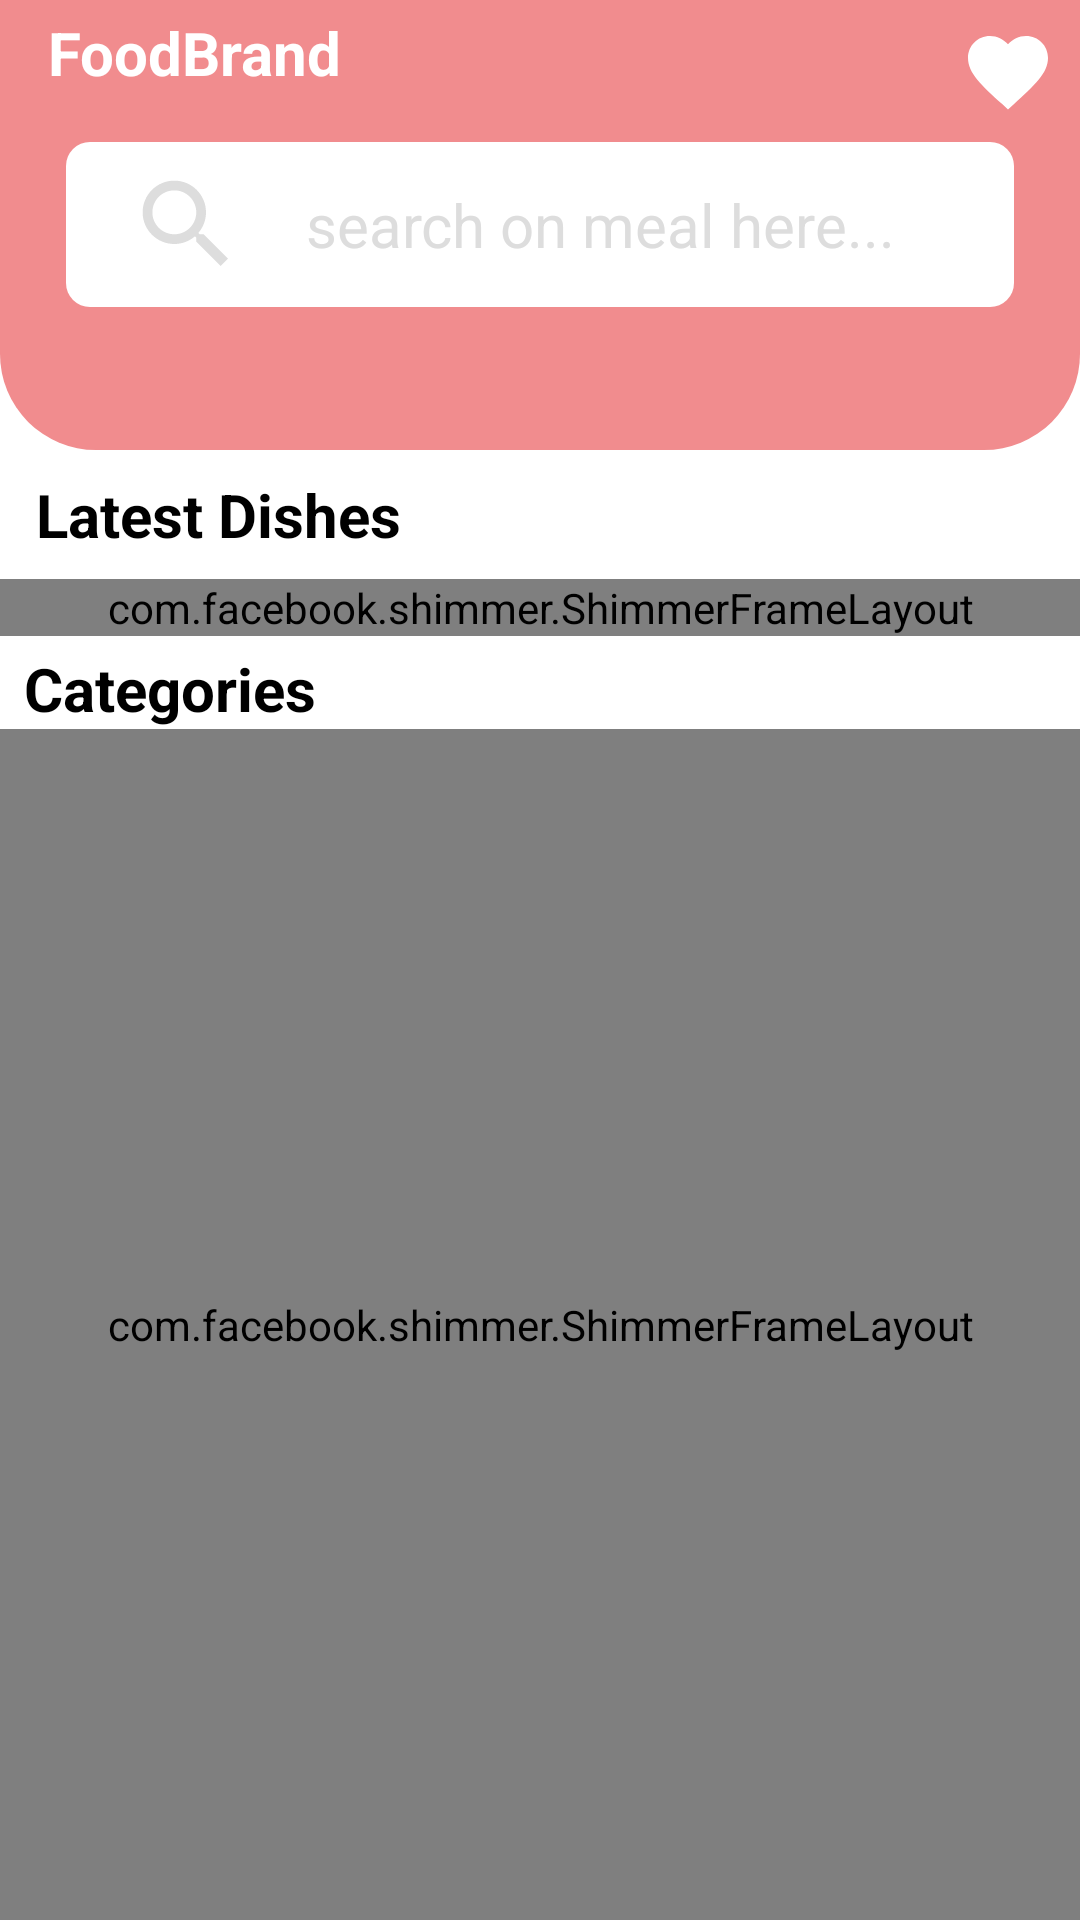

Screen size 1080 x 1920. Icon name, then its box in pixels as (x1, y1, x2, y2):
favorite: (968, 36, 1048, 109)
